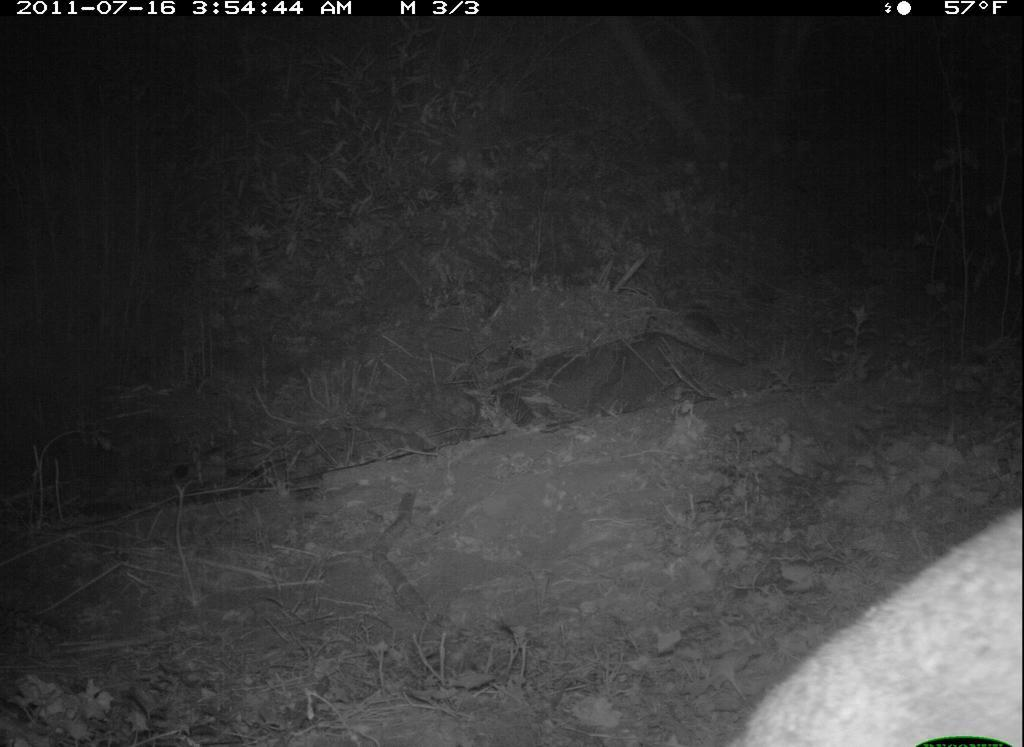bobcat: (737, 483, 1021, 744)
